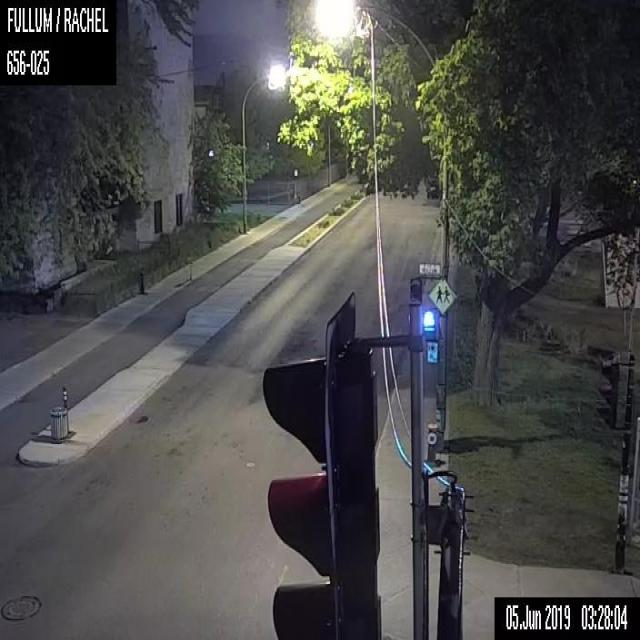vehicle: (426, 184, 439, 197)
